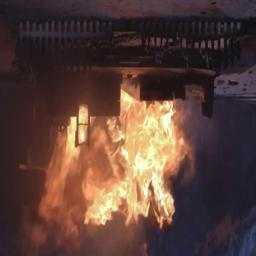fire: (40, 85, 205, 254)
